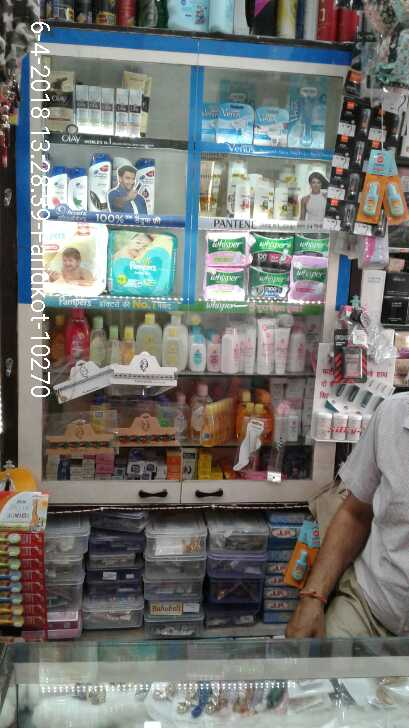venus: (291, 77, 326, 147), (218, 103, 254, 141), (256, 106, 288, 144), (221, 82, 254, 99), (204, 104, 217, 141)
